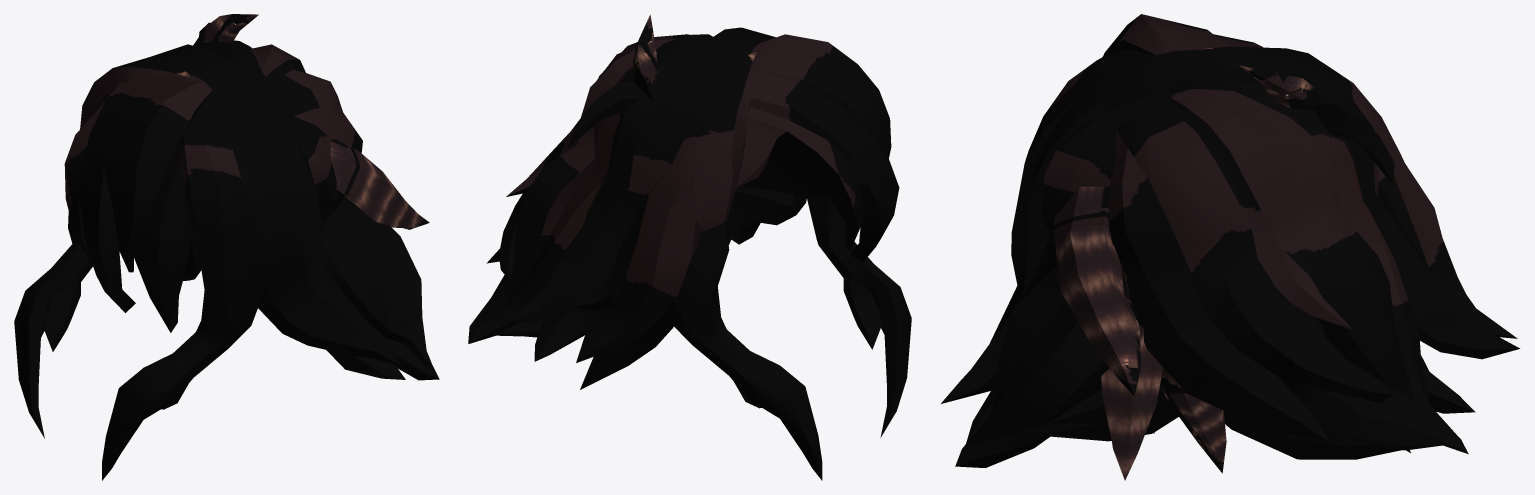
Rendered from hair6.fbx.
3 renders of one model, left to right at view 1: azimuth 30°, elevation 25°; view 2: azimuth 150°, elevation 25°; view 3: azimuth 270°, elevation 25°, orthographic. The views are drawn at different scales.
Parts seen in each view (by area): view 1: Handle1; view 2: Handle1; view 3: Handle1.
Boxes of the visible parts, x1,y1,x2,y2 form: Handle1: [14, 14, 439, 480]; Handle1: [468, 14, 911, 480]; Handle1: [941, 14, 1519, 480].
Size of the model in its own units: 186 by 213 by 231.
